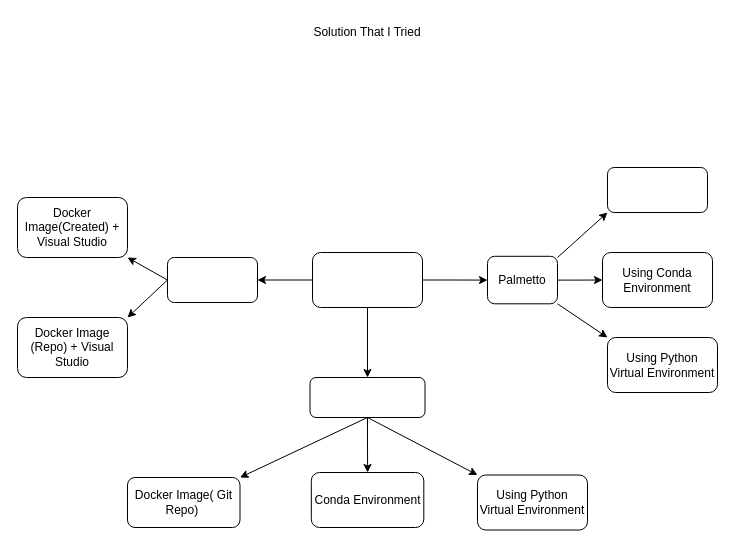
Some shapes in this 735 by 547 pixel diagram are drawn without their labels. The centre of each missing label's shape, as x and y in pixels:
"AutoAI Lab System" goes at [367,397].
"Local Sytsem" goes at [212,279].
"Need To Run Project Directory" goes at [367,280].
"Using Singularity" goes at [657,189].
